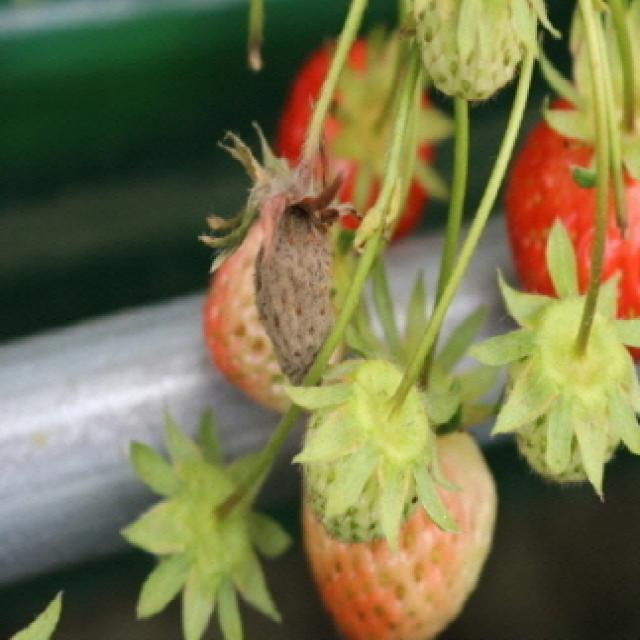Gray Mold: (196, 120, 364, 388)
